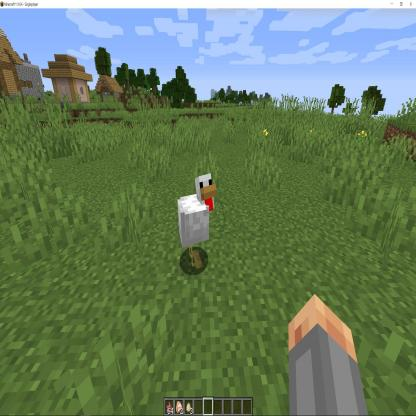minecraft-pigs: (176, 169, 219, 273)
